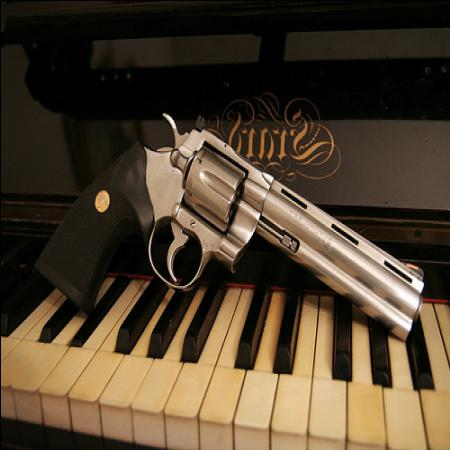Pistol: (33, 110, 425, 340)
